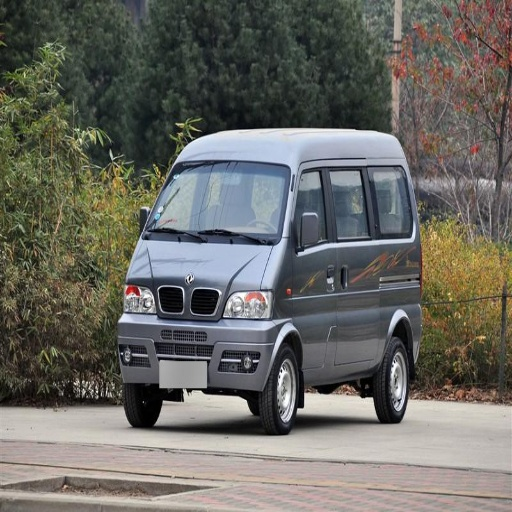front_bumper: (119, 284, 281, 391)
front_glass: (146, 160, 290, 243)
front_left_door: (294, 167, 342, 375)
